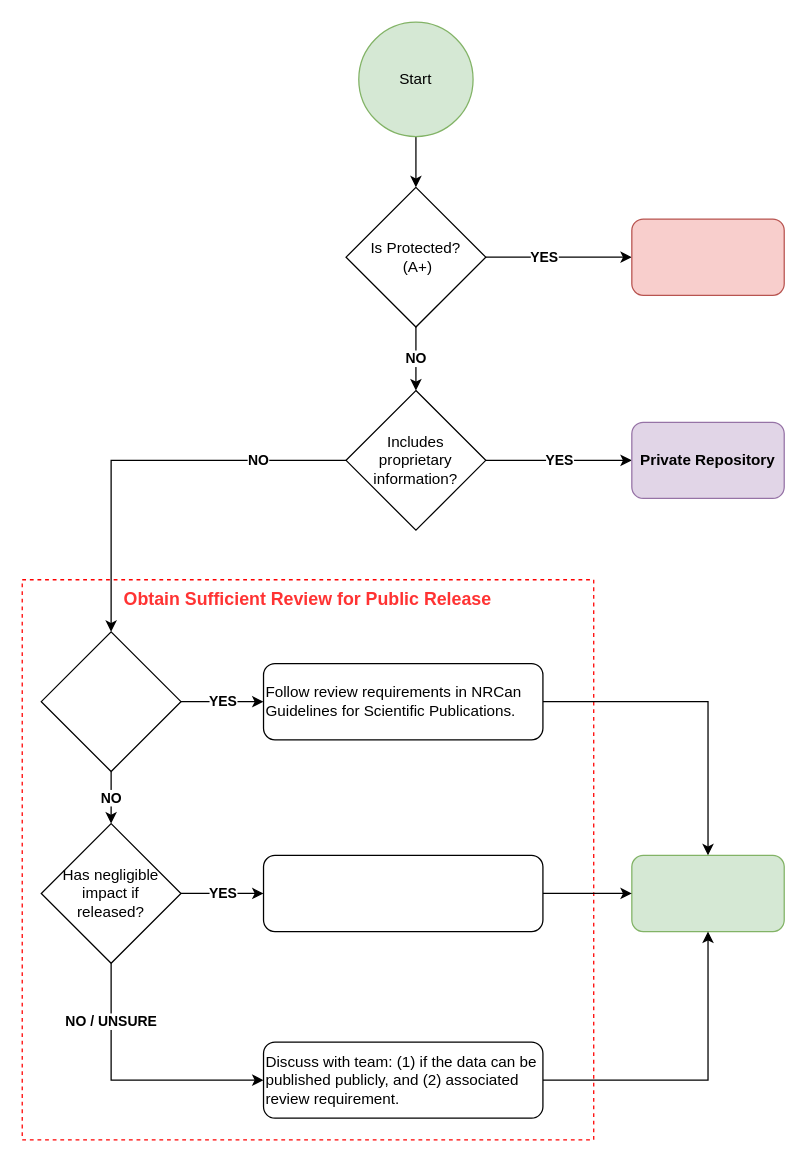
Some shapes in this 806 by 1162 pixel diagram are drawn without their labels. Here are the shapes that lost their labels. From the top down, the centre of each, then its label:
(x=707, y=256): Cannot be Published on Github
(x=110, y=701): Is Scientific / Technical Publication?
(x=402, y=893): Internal peer review by team member.
(x=707, y=893): Public Repository
